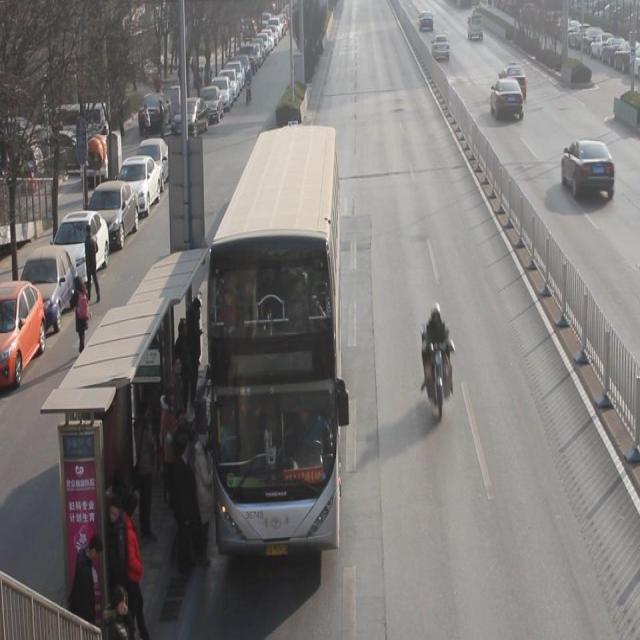car: (562, 140, 617, 204), (490, 77, 525, 123), (499, 59, 529, 101), (432, 32, 452, 64), (418, 9, 435, 32)
truck: (466, 14, 485, 42)
van: (207, 130, 340, 552)
